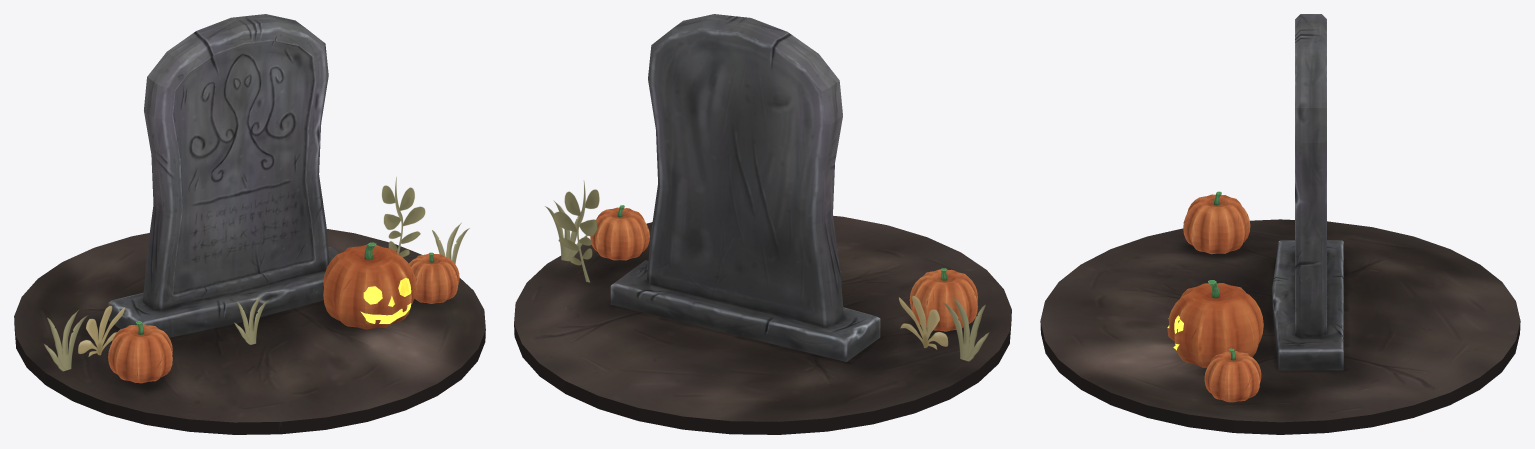
The picture shows the model from 3 angles, left to right: view 1: azimuth 30°, elevation 25°; view 2: azimuth 150°, elevation 25°; view 3: azimuth 270°, elevation 25°; orthographic projection. The views are drawn at different scales.
Parts seen in each view (by area): view 1: grave_5, grass_6, object 8, dynia2.000_9, dynia2.004_8, Plane.004_4, Plane_0, Plane.001_1, Plane.002_2, Plane.003_3; view 2: grave_5, grass_6, dynia2.000_9, dynia2.004_8, Plane.004_4, Plane.001_1, Plane_0, Plane.003_3; view 3: grass_6, grave_5, object 8, dynia2.000_9, dynia2.004_8.
Boxes of the visible parts, x1,y1,x2,y2 form: grave_5: [108, 14, 339, 337]; grass_6: [14, 229, 485, 434]; object 8: [323, 242, 416, 329]; dynia2.000_9: [108, 321, 172, 383]; dynia2.004_8: [409, 252, 459, 303]; Plane.004_4: [382, 177, 425, 256]; Plane_0: [44, 310, 87, 371]; Plane.001_1: [78, 306, 124, 356]; Plane.002_2: [234, 295, 268, 344]; Plane.003_3: [432, 223, 469, 263]; grave_5: [610, 14, 880, 361]; grass_6: [514, 215, 1011, 434]; dynia2.000_9: [909, 268, 977, 331]; dynia2.004_8: [590, 205, 649, 260]; Plane.004_4: [553, 180, 599, 282]; Plane.001_1: [899, 296, 948, 349]; Plane_0: [942, 296, 989, 361]; Plane.003_3: [545, 200, 587, 261]; grass_6: [1040, 219, 1520, 434]; grave_5: [1272, 14, 1343, 370]; object 8: [1167, 280, 1263, 367]; dynia2.000_9: [1183, 191, 1250, 254]; dynia2.004_8: [1204, 348, 1261, 402].
Size of the model in its own units: 8.77 by 5.88 by 8.33.
Materials: 10 (9 with a texture image).
